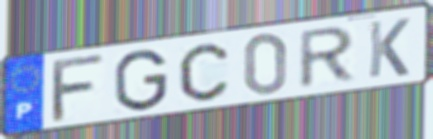0: (241, 31, 289, 98)
C: (176, 41, 231, 103)
F: (48, 51, 109, 126)
G: (112, 47, 170, 114)
K: (366, 16, 412, 80)
R: (295, 24, 359, 92)
